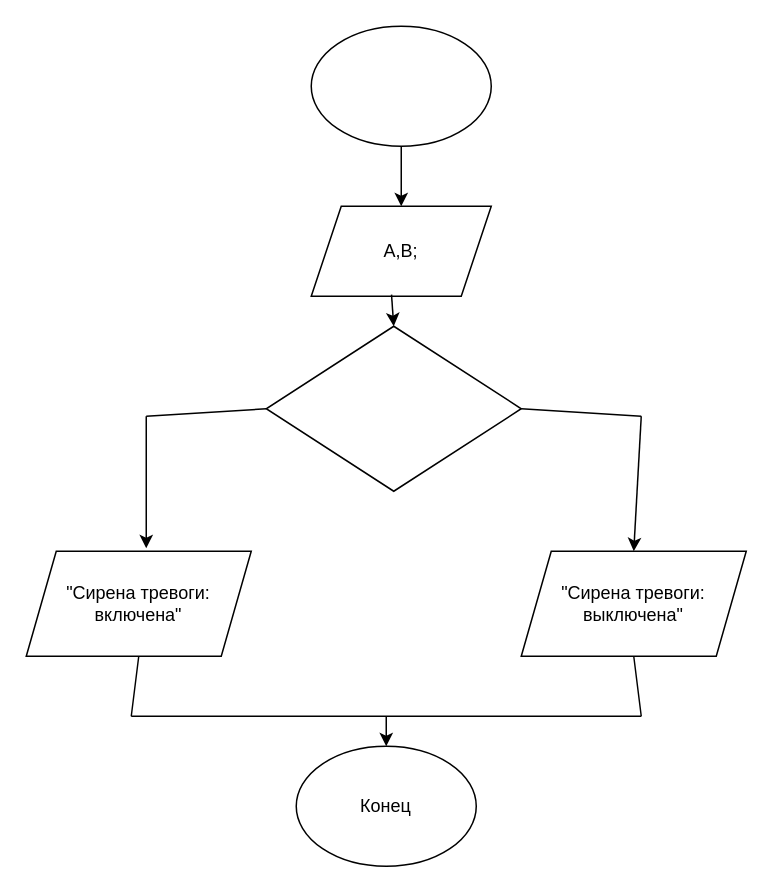
The diagram is 773 pixels wide and 893 high, and some of its shapes have lost their labels. The centre of each missing label's shape, as x and y in pixels:
"(A%2)!=(B%2)" goes at (393,408).
"Начало" goes at (400,85).
